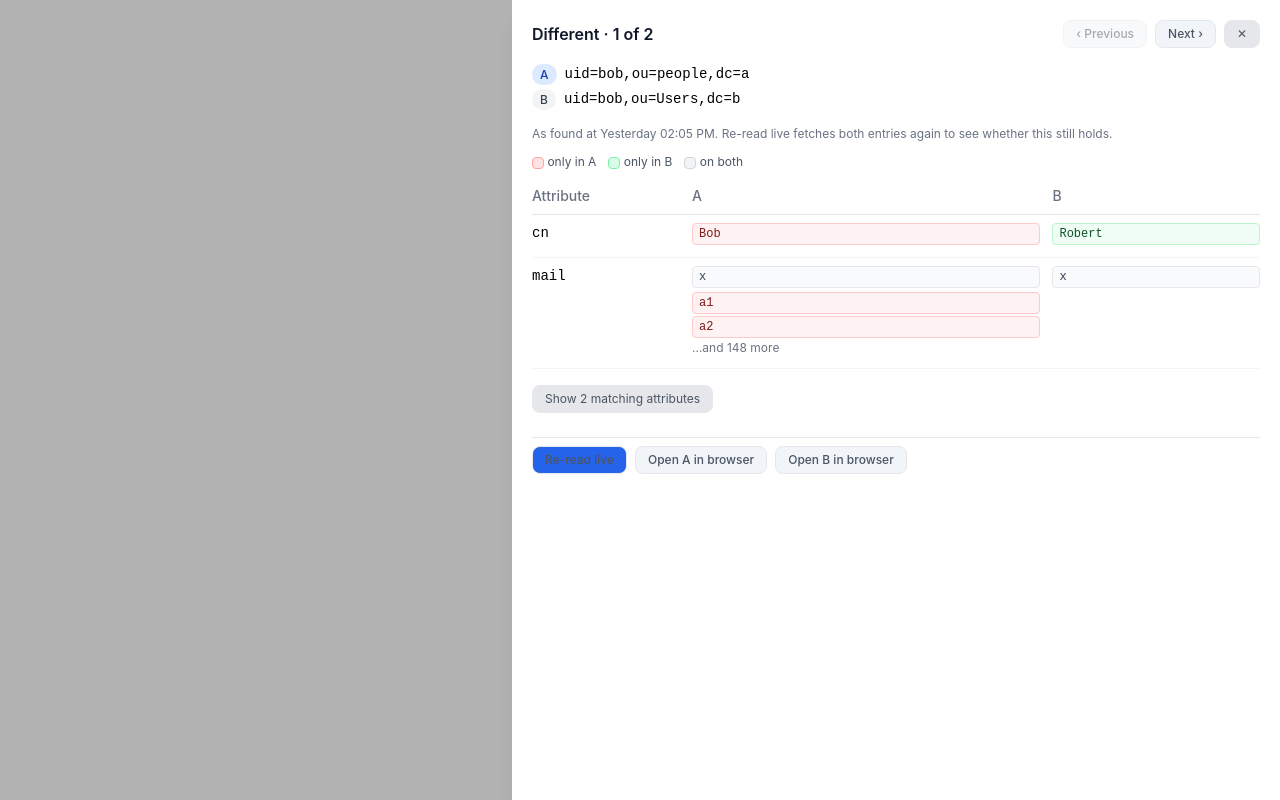
Test: DirectoryDiffEntryPanel › re-reads both entries and says what changed
Click the button "Re-read live" at [580, 460], box [532,446,627,474]
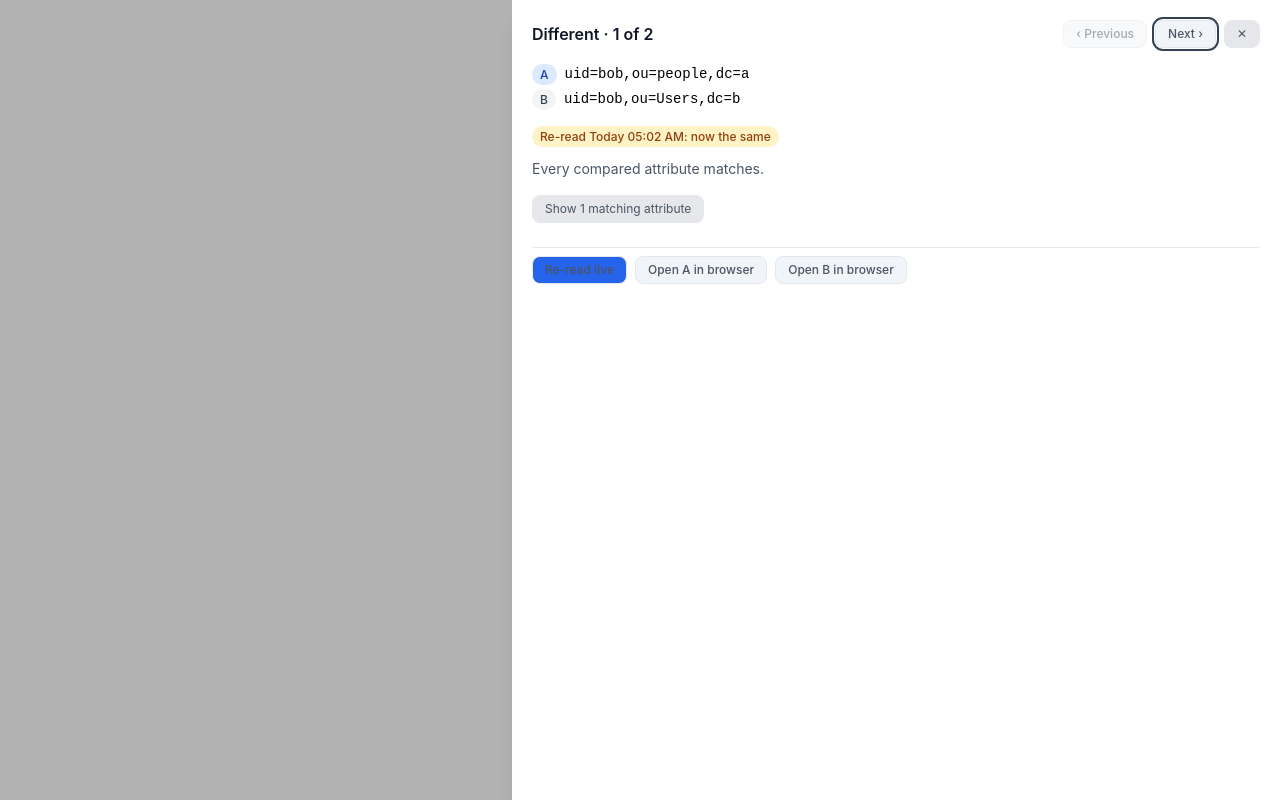
Expected: the element with test id "live-banner" shows "now the same", [540,129,771,144]
Expected: the table with test id "diff-table" is gone
